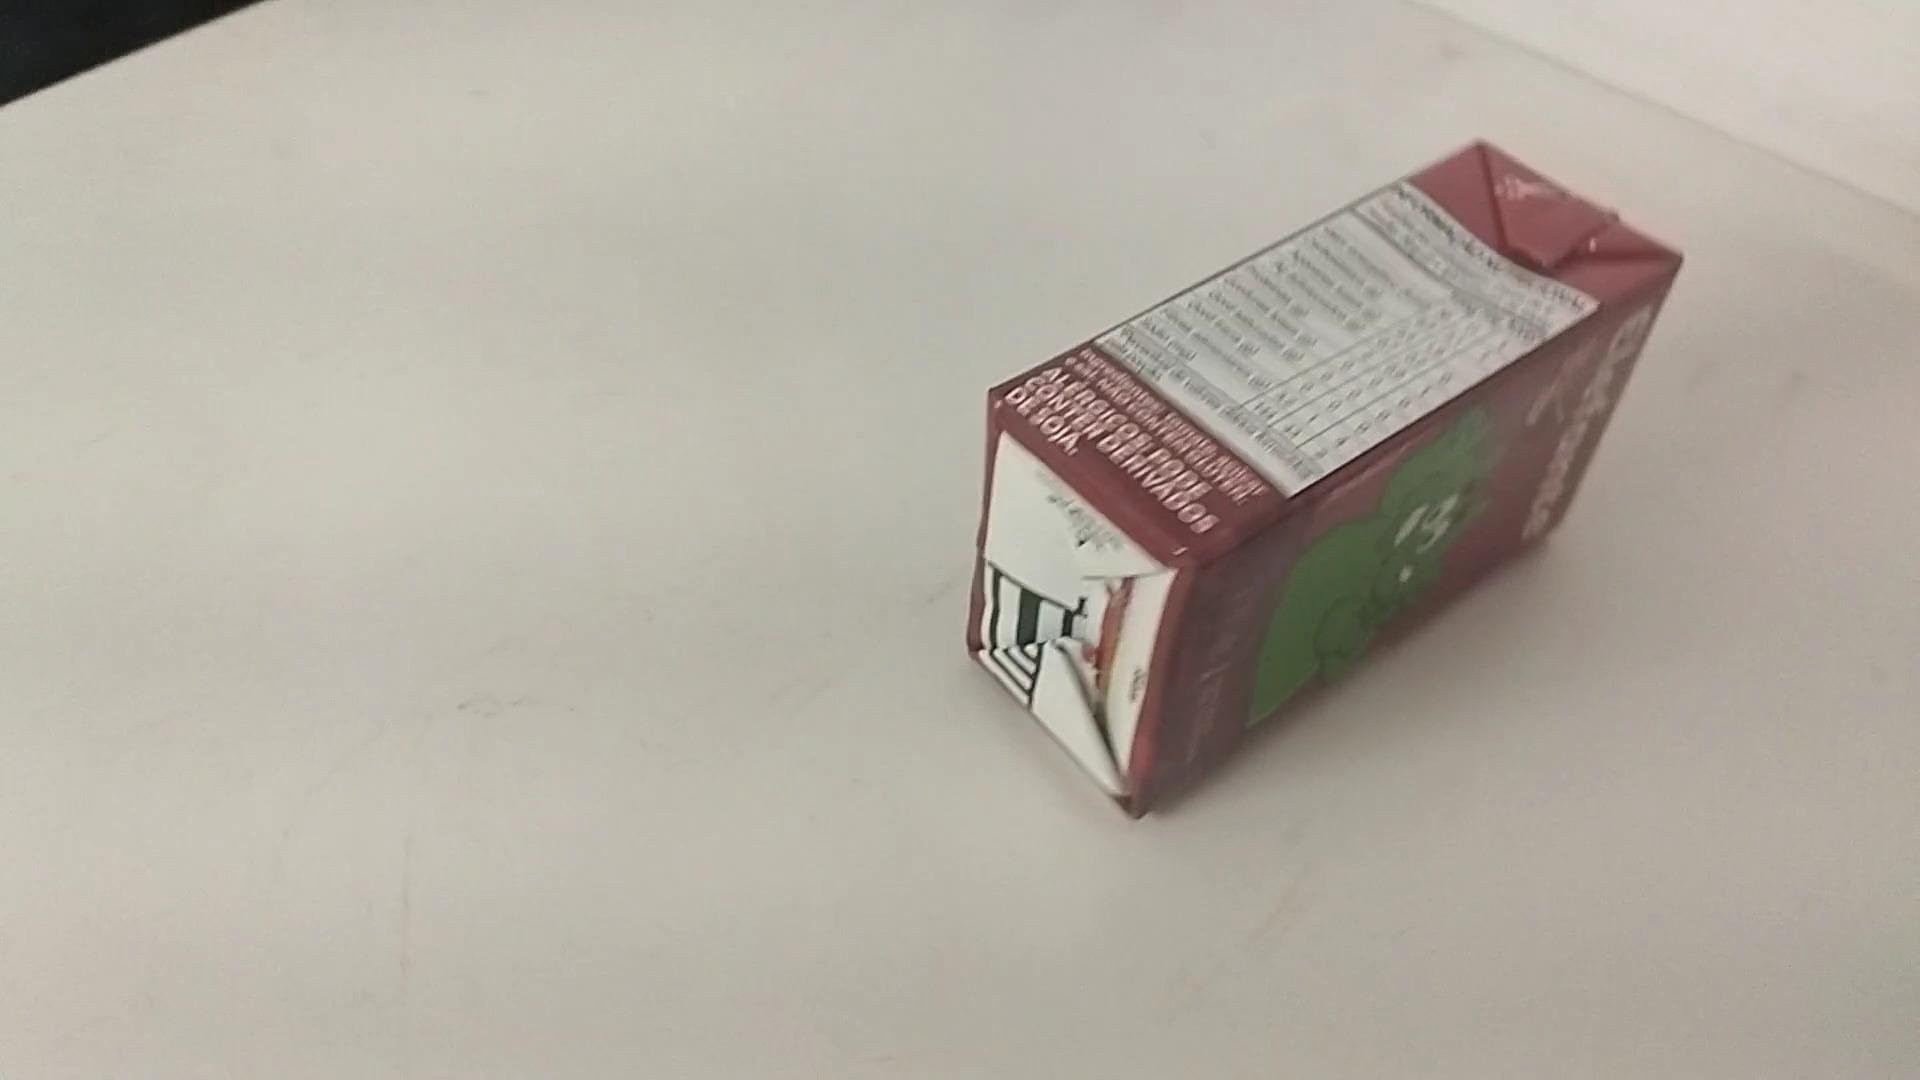tomate: (897, 108, 1818, 843)
